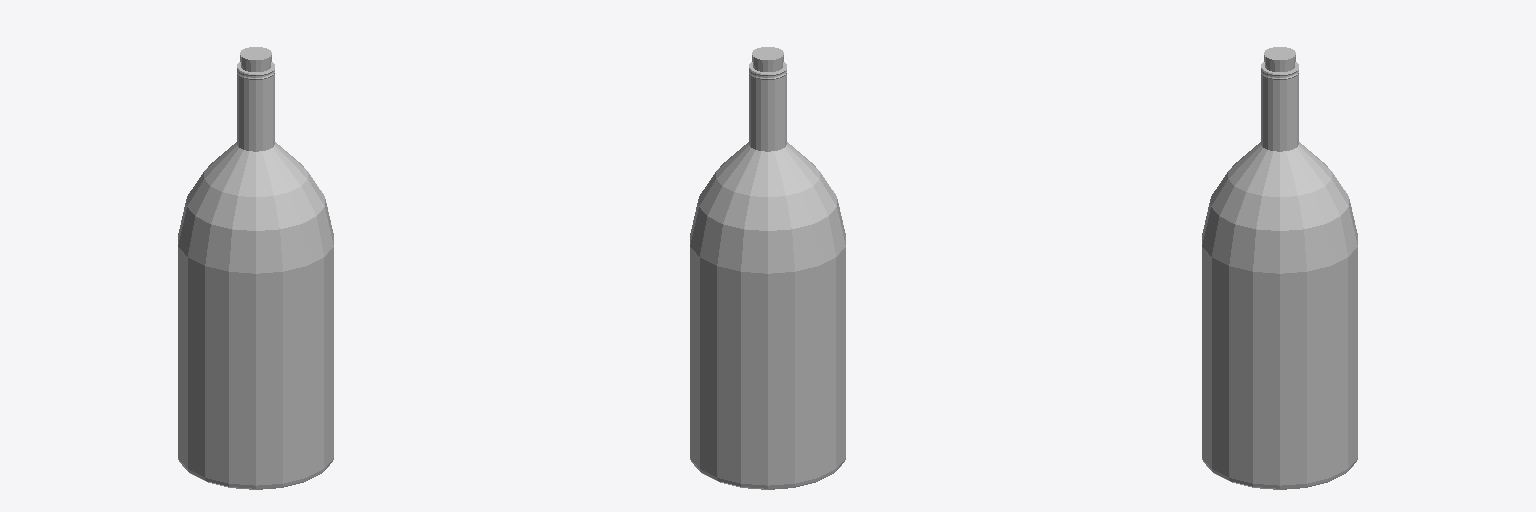
The model's file is Wine.obj.
The picture shows the model from 3 angles: view 1: azimuth 30°, elevation 25°; view 2: azimuth 150°, elevation 25°; view 3: azimuth 270°, elevation 25°; orthographic projection.
Visible parts, largest first — view 1: Cylinder01; view 2: Cylinder01; view 3: Cylinder01.
Boxes of the visible parts, <box> form: Cylinder01: <box>178,47,333,489</box>; Cylinder01: <box>690,47,845,489</box>; Cylinder01: <box>1202,47,1357,489</box>.
Size of the model in its own units: 85.72 by 242 by 84.42.